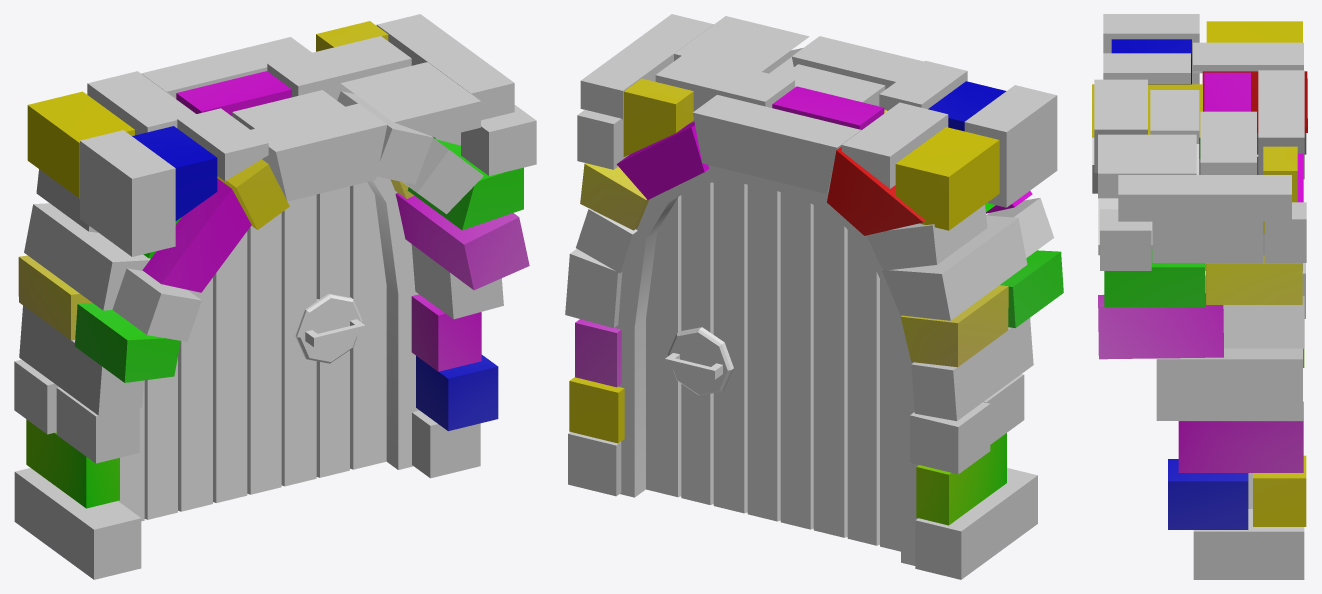
The model's file is Gate.fbx.
The picture shows the model from 3 angles, left to right: view 1: azimuth 30°, elevation 25°; view 2: azimuth 150°, elevation 25°; view 3: azimuth 270°, elevation 25°; orthographic projection. The views are drawn at different scales.
Parts seen in each view (by area): view 1: Door_low, Gate.011_low, Gate.031_low, Gate.001_low, Gate.025_low, Gate.022_low, Gate.003_low, Gate.041_low, Gate.038_low, Gate.007_low, Gate.024_low, Gate.039_low (+23 smaller); view 2: Door_low, Gate.035_low, Gate.022_low, Gate.007_low, Gate.001_low, Gate.011_low, Gate.038_low, Gate.024_low, Gate.040_low, Gate.032_low, Gate.021_low, Gate.016_low (+21 smaller); view 3: Gate.037_low, Gate.024_low, Gate.025_low, Gate.005_low, Gate.036_low, Gate.026_low, Gate.029_low, Gate.003_low, Gate.013_low, Gate.019_low, Gate.035_low, Gate.016_low (+17 smaller).
Boxes of the visible parts, left/top/right/bottom form: Door_low: left=118, top=176, right=419, bottom=521; Gate.011_low: left=80, top=130, right=175, bottom=256; Gate.031_low: left=251, top=103, right=387, bottom=201; Gate.001_low: left=14, top=468, right=141, bottom=579; Gate.025_low: left=396, top=192, right=529, bottom=290; Gate.022_low: left=24, top=203, right=150, bottom=310; Gate.003_low: left=340, top=62, right=480, bottom=138; Gate.041_low: left=142, top=178, right=251, bottom=292; Gate.038_low: left=19, top=305, right=143, bottom=415; Gate.007_low: left=27, top=91, right=134, bottom=198; Gate.024_low: left=376, top=14, right=514, bottom=120; Gate.039_low: left=74, top=303, right=180, bottom=382; Door_low: left=614, top=165, right=918, bottom=565; Gate.035_low: left=692, top=95, right=861, bottom=193; Gate.022_low: left=881, top=215, right=1027, bottom=320; Gate.007_low: left=895, top=127, right=999, bottom=230; Gate.001_low: left=915, top=468, right=1037, bottom=579; Gate.011_low: left=964, top=85, right=1057, bottom=207; Gate.038_low: left=911, top=318, right=1033, bottom=421; Gate.024_low: left=580, top=14, right=713, bottom=118; Gate.040_low: left=900, top=285, right=1008, bottom=367; Gate.032_low: left=841, top=102, right=948, bottom=188; Gate.021_low: left=916, top=433, right=1006, bottom=525; Gate.016_low: left=655, top=53, right=794, bottom=123; Gate.037_low: left=1156, top=348, right=1302, bottom=420; Gate.024_low: left=1118, top=175, right=1291, bottom=221; Gate.025_low: left=1098, top=293, right=1223, bottom=359; Gate.005_low: left=1178, top=401, right=1303, bottom=472; Gate.036_low: left=1193, top=509, right=1304, bottom=579; Gate.026_low: left=1168, top=459, right=1248, bottom=529; Gate.029_low: left=1152, top=221, right=1263, bottom=263; Gate.003_low: left=1098, top=134, right=1196, bottom=198; Gate.013_low: left=1104, top=250, right=1204, bottom=307; Gate.019_low: left=1206, top=255, right=1302, bottom=304; Gate.035_low: left=1258, top=70, right=1304, bottom=179; Gate.016_low: left=1200, top=111, right=1256, bottom=174.
Bounding box in the file's own units: 2.05 × 2.02 × 1.01.
